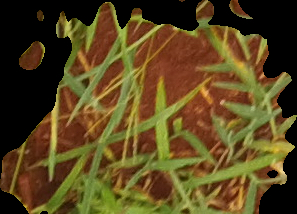grass: (1, 1, 296, 213)
